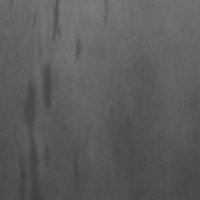inclusion: (15, 67, 42, 199), (37, 57, 62, 116), (65, 151, 89, 194), (47, 0, 67, 46), (67, 31, 86, 64), (98, 0, 115, 30)
